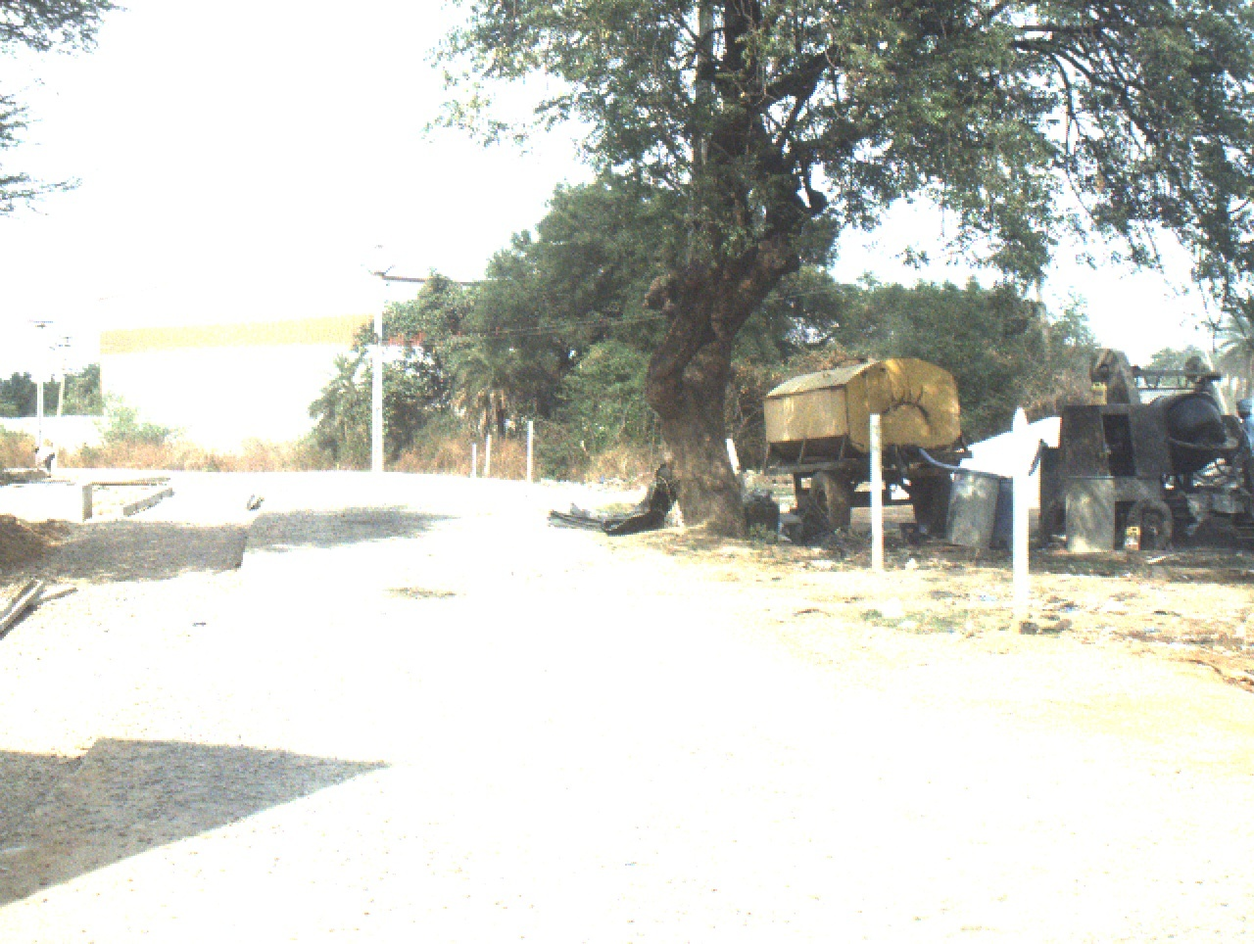person: (1231, 393, 1250, 440), (30, 443, 54, 477)
vehicle fallback: (1033, 345, 1254, 557), (753, 354, 969, 543)
